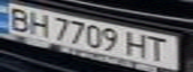0: (81, 21, 103, 50)
7: (48, 15, 72, 42), (66, 18, 87, 46)
9: (100, 25, 124, 53)
B: (3, 4, 33, 33)
H: (24, 10, 54, 37), (124, 29, 151, 58)
T: (145, 34, 175, 63)
